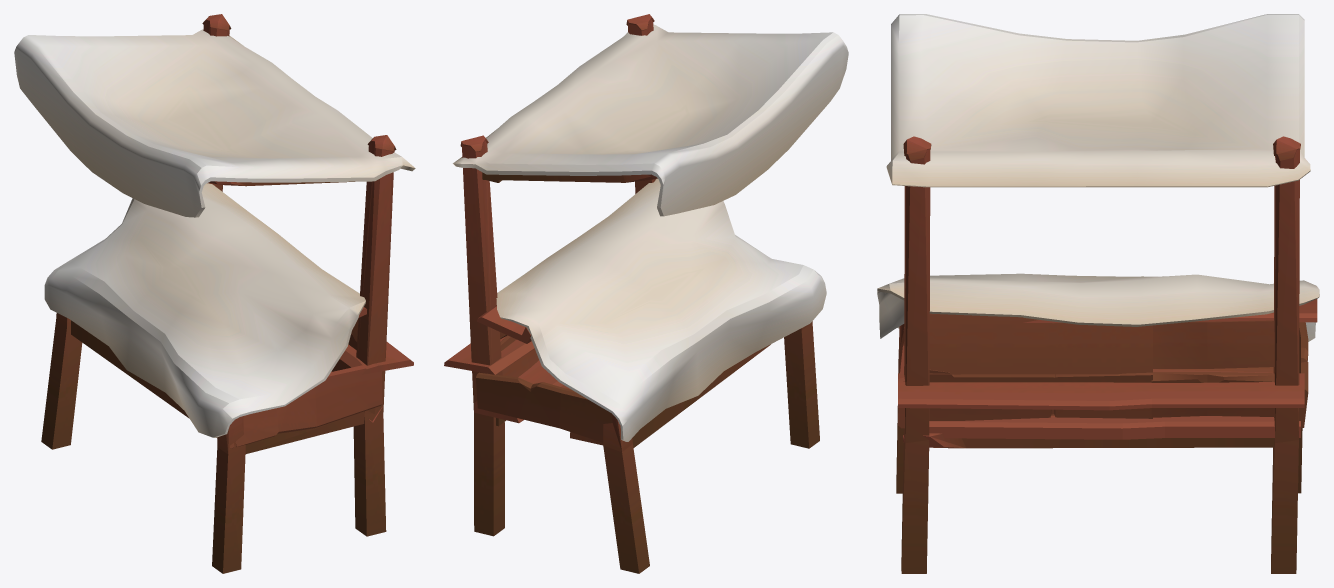
3 views of the same model, side by side, from view 1: azimuth 30°, elevation 25°; view 2: azimuth 150°, elevation 25°; view 3: azimuth 270°, elevation 25° (orthographic). The views are drawn at different scales.
Parts seen in each view (by area): view 1: MarketStandClosed; view 2: MarketStandClosed; view 3: MarketStandClosed.
Boxes of the visible parts, x1,y1,x2,y2 form: MarketStandClosed: (14, 14, 415, 573); MarketStandClosed: (444, 14, 848, 573); MarketStandClosed: (877, 14, 1319, 573).
Bounding box in the file's own units: 90.37 × 160 × 139.
Materials: 1 (1 with a texture image).
